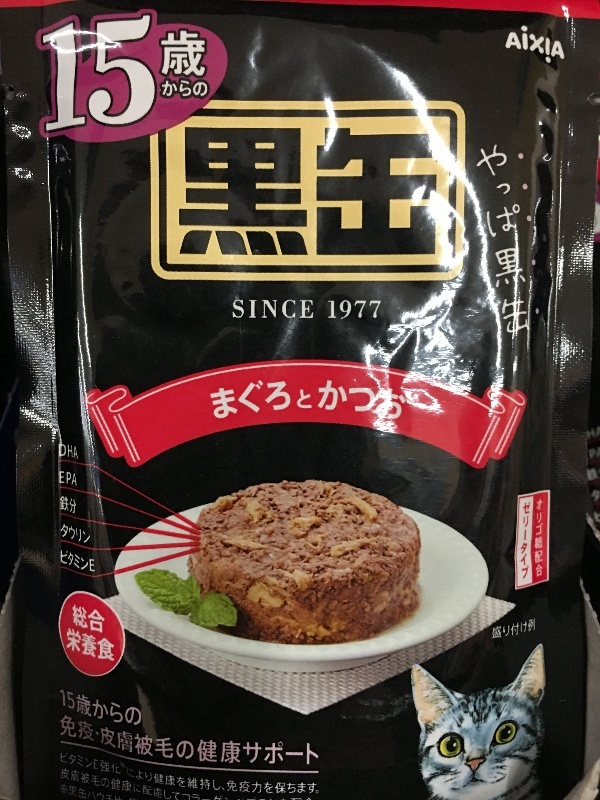text: (481, 138, 496, 344), (497, 138, 512, 344), (513, 138, 528, 344), (49, 10, 64, 144), (65, 10, 80, 144), (81, 10, 96, 144), (97, 10, 112, 144), (113, 10, 128, 144), (129, 10, 144, 144), (193, 129, 208, 261), (209, 129, 224, 261), (225, 129, 240, 261), (241, 129, 256, 261), (257, 129, 272, 261), (273, 129, 288, 261), (289, 129, 304, 261), (305, 129, 320, 261), (321, 129, 336, 261), (337, 129, 352, 261), (353, 129, 368, 261), (369, 129, 384, 261), (385, 129, 400, 261), (401, 129, 416, 261), (417, 129, 432, 261), (145, 10, 159, 144), (181, 129, 192, 261), (473, 138, 480, 344), (39, 10, 48, 144), (529, 138, 534, 344), (193, 27, 209, 80), (65, 714, 80, 770), (81, 714, 96, 770), (97, 714, 112, 770), (113, 714, 128, 770), (129, 714, 144, 770), (145, 714, 160, 770), (161, 714, 176, 770), (177, 714, 192, 770), (193, 714, 208, 770), (209, 714, 224, 770), (225, 714, 240, 770), (241, 714, 256, 770), (257, 714, 272, 770), (273, 714, 288, 770), (289, 714, 304, 770), (305, 714, 320, 770), (209, 375, 224, 429), (225, 375, 240, 429), (241, 375, 256, 429), (257, 375, 272, 429), (273, 375, 288, 429), (289, 375, 304, 429), (305, 375, 320, 429), (321, 375, 336, 429), (337, 375, 352, 429), (353, 375, 368, 429), (369, 375, 384, 429), (385, 375, 400, 429), (161, 27, 176, 80), (177, 27, 192, 80), (433, 129, 439, 261), (535, 497, 544, 580), (513, 19, 528, 66), (529, 19, 544, 66), (545, 19, 560, 66), (65, 688, 80, 730), (81, 688, 96, 730), (97, 688, 112, 730), (113, 688, 128, 730), (241, 292, 256, 330), (257, 292, 272, 330), (273, 292, 288, 330), (289, 292, 304, 330), (81, 626, 96, 664), (97, 626, 112, 664), (129, 688, 142, 730), (337, 292, 352, 328), (353, 292, 368, 328), (369, 292, 384, 328), (401, 375, 411, 429), (66, 626, 80, 664), (65, 765, 80, 800), (81, 765, 96, 800), (97, 765, 112, 800), (113, 765, 128, 800), (129, 765, 144, 800), (145, 765, 160, 800), (81, 604, 96, 636), (305, 767, 321, 797), (81, 548, 97, 577), (129, 767, 144, 797), (145, 767, 160, 797), (161, 767, 176, 797), (177, 767, 192, 797), (193, 767, 208, 797), (209, 767, 224, 797), (225, 767, 240, 797), (241, 767, 256, 797), (257, 767, 272, 797), (273, 767, 288, 797), (289, 767, 304, 797), (65, 548, 80, 577), (193, 75, 209, 102), (305, 292, 316, 330), (161, 75, 176, 102), (177, 75, 192, 102), (523, 502, 528, 583), (325, 292, 336, 328), (65, 750, 80, 776), (81, 750, 96, 776), (97, 750, 112, 776), (497, 617, 512, 643), (513, 617, 528, 643), (161, 765, 172, 800), (504, 19, 512, 66), (65, 521, 80, 545), (231, 292, 240, 330), (561, 19, 568, 66), (65, 494, 78, 517), (97, 604, 106, 636), (65, 467, 78, 489), (65, 443, 79, 462), (72, 604, 80, 636), (529, 502, 532, 583), (81, 521, 91, 545), (65, 783, 80, 799), (81, 783, 96, 799), (97, 783, 112, 799), (59, 688, 64, 730), (113, 750, 121, 776), (529, 617, 537, 643), (58, 467, 64, 489), (491, 617, 496, 643), (113, 783, 121, 799), (59, 494, 64, 517), (62, 714, 64, 770), (158, 27, 160, 80), (61, 765, 64, 800), (59, 443, 64, 462), (61, 548, 64, 577), (61, 750, 64, 776), (113, 626, 115, 664), (61, 521, 64, 545), (61, 783, 64, 799), (127, 767, 128, 797)
